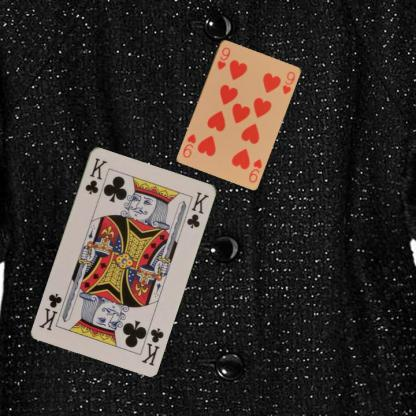9h: (246, 156, 263, 184), (214, 45, 231, 71)
Kc: (138, 325, 165, 367), (82, 155, 109, 195)
